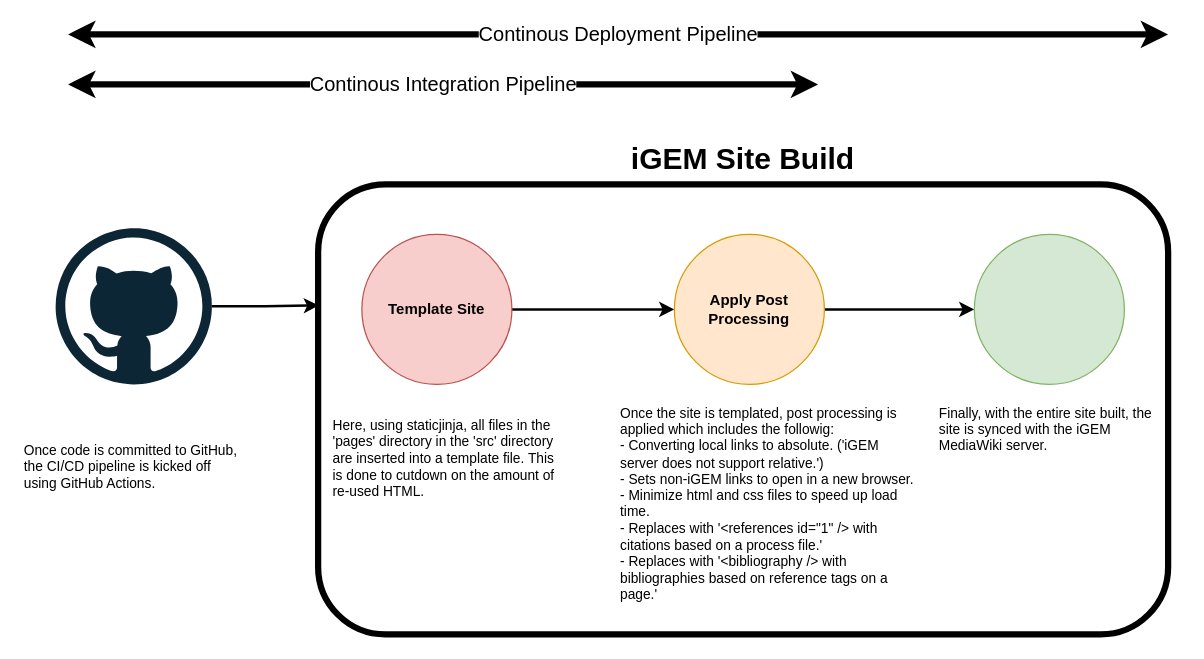
The diagram is 1204 pixels wide and 659 high, and some of its shapes have lost their labels. Each missing label, with the box of its shape:
Github Actions: (54, 227, 212, 384)
iGEM MediaWiki Sync: (973, 233, 1124, 384)
